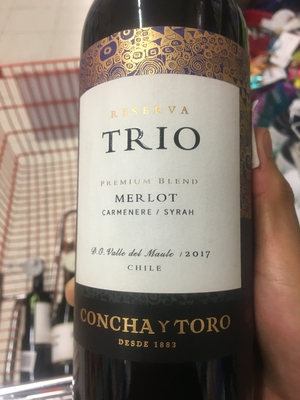trio merlot: (74, 13, 268, 388)
